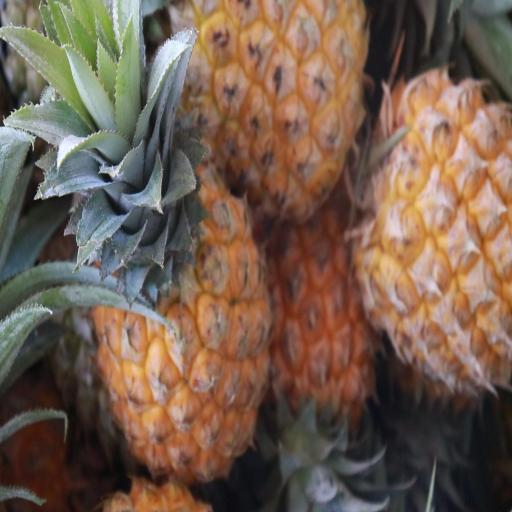Pineapple - v8 v1: (84, 129, 271, 489), (357, 74, 512, 384), (196, 2, 370, 214), (268, 209, 398, 433)
